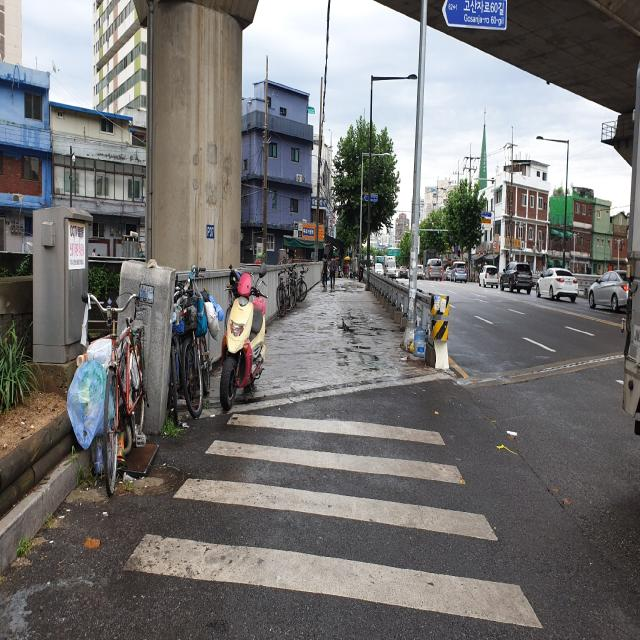car: (588, 270, 628, 312), (536, 267, 578, 302), (500, 262, 532, 294), (479, 266, 499, 288), (425, 259, 442, 281), (451, 262, 466, 283), (384, 256, 396, 280)
motorbike: (220, 262, 268, 410)
